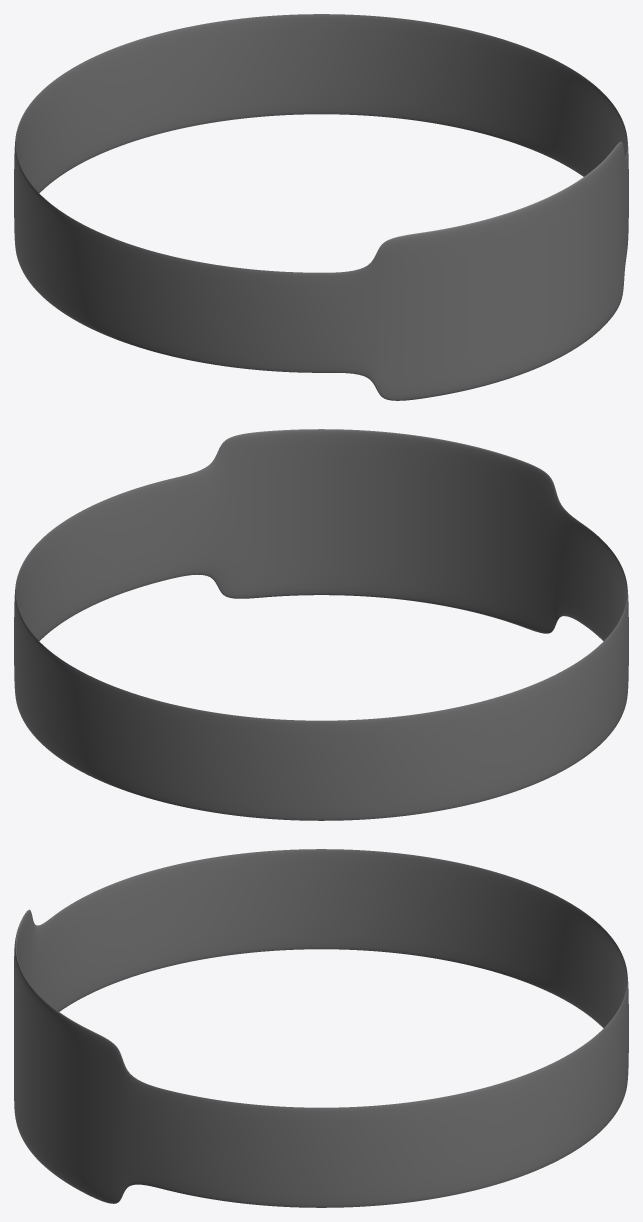
The model's file is WristbandNew.fbx.
3 renders of one model, top to bottom at view 1: azimuth 30°, elevation 25°; view 2: azimuth 150°, elevation 25°; view 3: azimuth 270°, elevation 25°, orthographic.
Parts seen in each view (by area): view 1: Subdivision_Surface; view 2: Subdivision_Surface; view 3: Subdivision_Surface.
Part boxes in pixels (left/top/right/bottom): Subdivision_Surface: left=14, top=14, right=628, bottom=400; Subdivision_Surface: left=14, top=429, right=628, bottom=820; Subdivision_Surface: left=14, top=849, right=628, bottom=1207.
Size of the model in its own units: 398 by 118 by 398.
